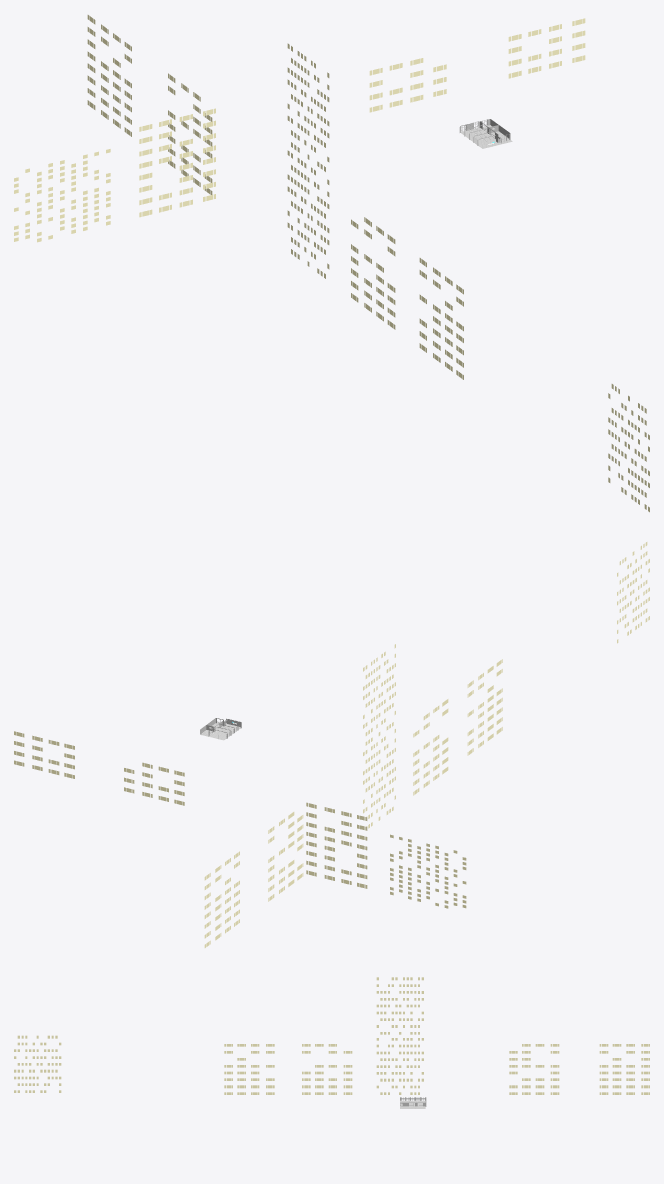
Rendered from office3.glb.
3 views of the same model, one above another, from view 1: azimuth 30°, elevation 25°; view 2: azimuth 150°, elevation 25°; view 3: azimuth 270°, elevation 25° (orthographic). The views are drawn at different scales.
Visible parts, largest first — view 1: buildings, baked; view 2: buildings, baked; view 3: buildings, baked.
Part boxes in pixels (x1,y1,x2,y2): buildings: (14,15,649,512); baked: (459,119,512,148); buildings: (14,542,649,947); baked: (200,718,241,740); buildings: (14,977,649,1094); baked: (400,1097,426,1108).
Bounding box in the file's own units: 497 × 173 × 847.
